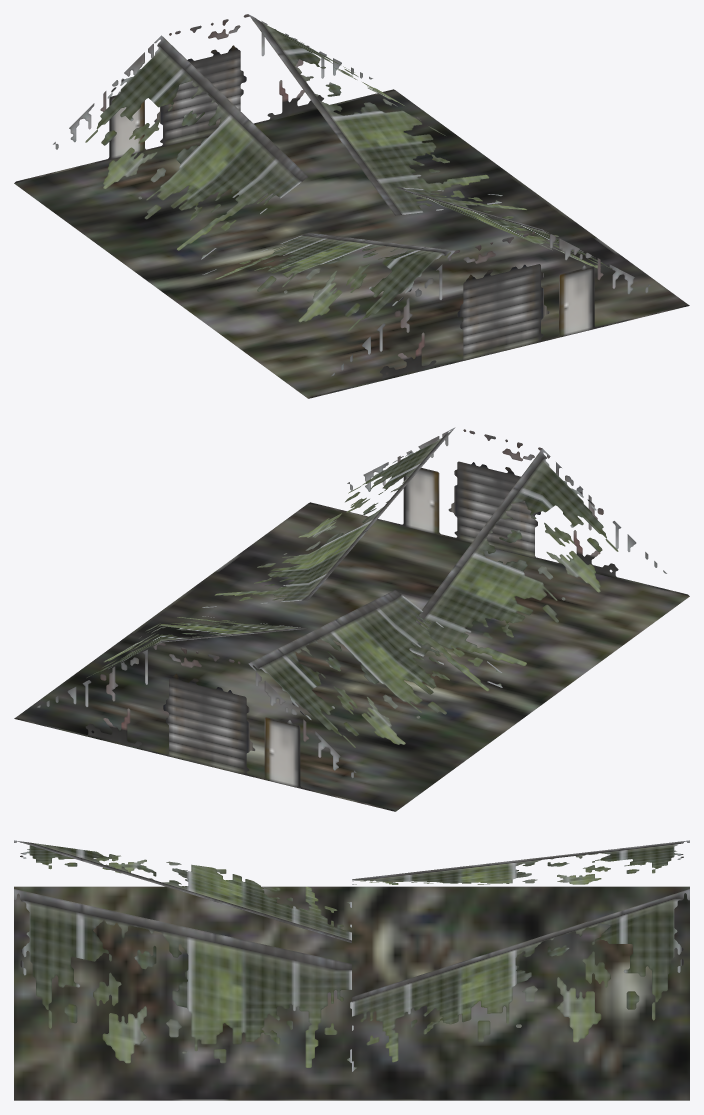
File: greenhouse_dam.glb
The picture shows the model from 3 angles, top to bottom: view 1: azimuth 30°, elevation 25°; view 2: azimuth 150°, elevation 25°; view 3: azimuth 270°, elevation 25°; orthographic projection. The views are drawn at different scales.
Visible parts, largest first — view 1: GreenHouseDam; view 2: GreenHouseDam; view 3: GreenHouseDam.
Boxes of the visible parts, x1,y1,x2,y2 form: GreenHouseDam: [14, 14, 689, 398]; GreenHouseDam: [14, 427, 689, 811]; GreenHouseDam: [14, 840, 689, 1100].
Size of the model in its own units: 13.8 by 3.88 by 18.44.
1 material, 1 textured.
